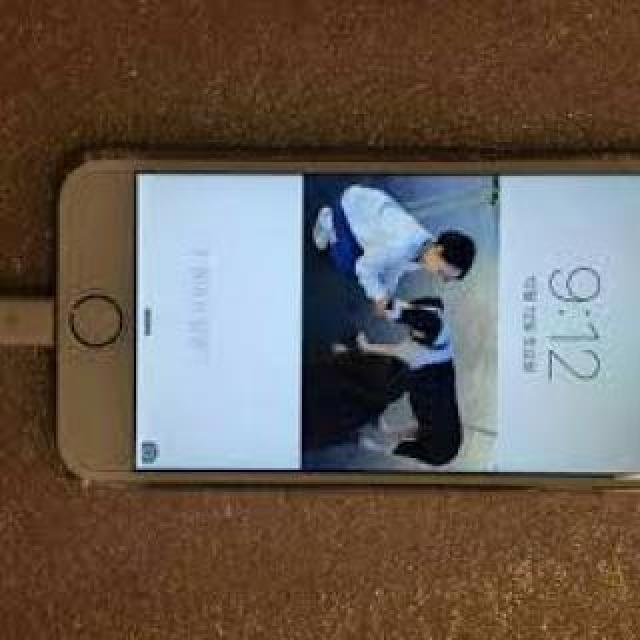smart phone: (48, 128, 640, 510)
